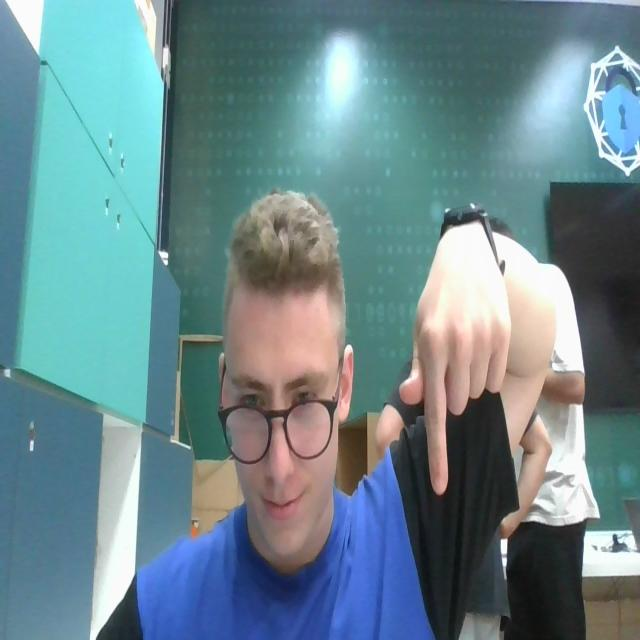Q: (393, 228, 511, 502)
